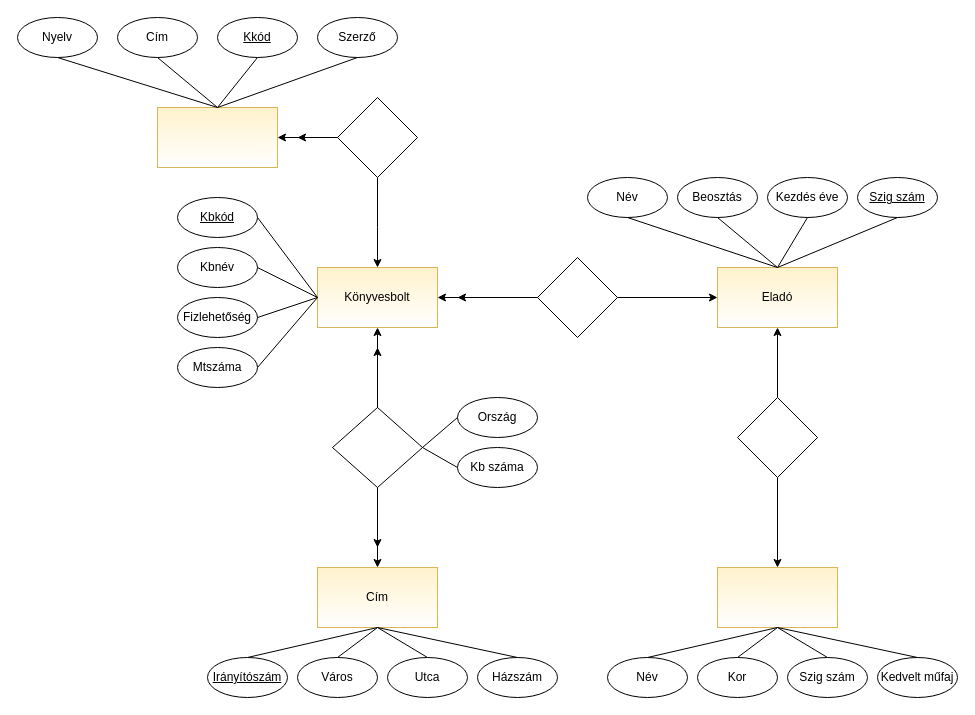
This 975x715 diagram has some shape labels left out. Each missing label, with the centre of its shape:
"Dolgozik" belongs at pixel 577 297.
"Elhelyezkedés" belongs at pixel 377 447.
"Könyvek" belongs at pixel 217 137.
"Termék" belongs at pixel 377 137.
"Vásárlás" belongs at pixel 777 437.
"Vásárló" belongs at pixel 777 597.
